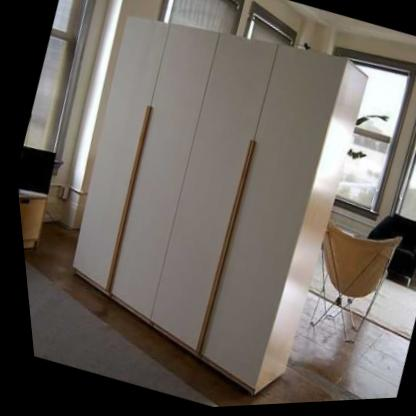Chair: (283, 207, 410, 360)
Closet: (16, 0, 396, 415)
Sofa: (346, 189, 416, 296)
